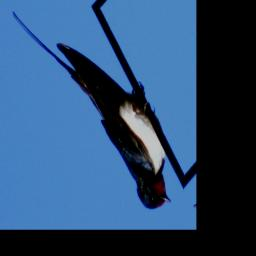Swallow: (0, 9, 185, 215)
